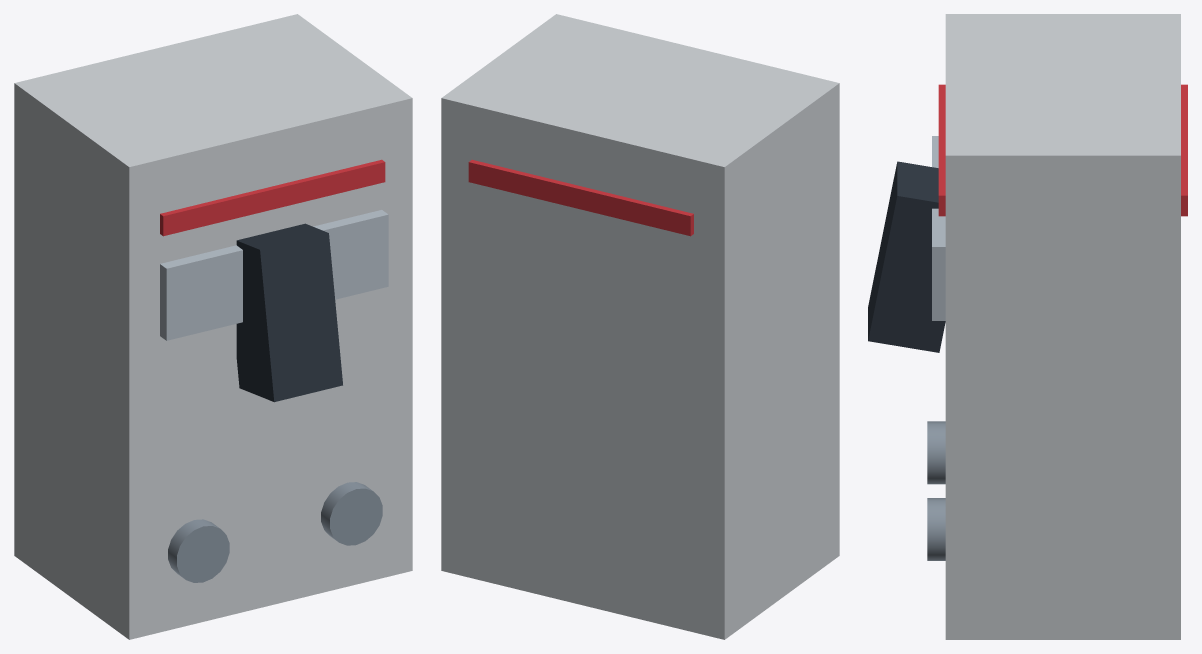
File: circuit-breaker.glb
The picture shows the model from 3 angles, left to right: view 1: azimuth 30°, elevation 25°; view 2: azimuth 150°, elevation 25°; view 3: azimuth 270°, elevation 25°; orthographic projection. The views are drawn at different scales.
Size of the model in its own units: 0.74 by 1.18 by 0.7059.
